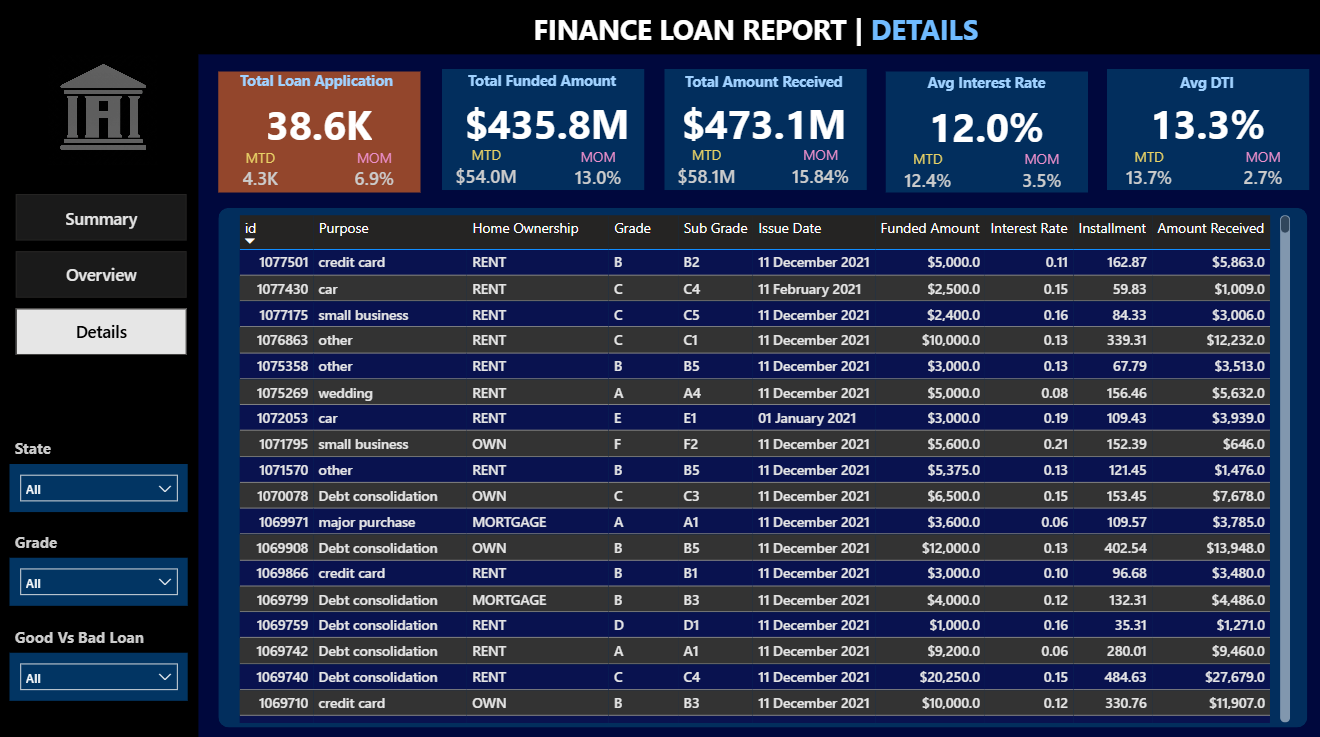

This screenshot's page, from the dashboard's own definition file:
{"tool":"powerbi","page":{"name":"Details ","canvas":[1280,720],"ordinal":2},"visuals":[{"type":"shape","box":[0,0,1280.3,58.3],"z":0},{"type":"shape","box":[0,58.3,194.6,662],"z":1000},{"type":"textbox","box":[194.6,10.6,1076.4,47.7],"z":2000},{"type":"shape","box":[644.6,72.2,195.5,117.1],"z":2000,"group":"g4"},{"type":"shape","box":[429.8,73.5,195.5,117.1],"z":2000,"group":"g3"},{"type":"shape","box":[1071.3,73.5,195.5,117.1],"z":2000,"group":"g6"},{"type":"shape","box":[213.8,74.8,195.5,117.1],"z":2000,"group":"g2"},{"type":"shape","box":[858.6,74.8,195.5,117.1],"z":2000,"group":"g5"},{"type":"shape","box":[213.2,206.5,1051.2,501.8],"z":3000},{"type":"group","id":"g1","title":"Group 2","box":[205.2,69.3,1068.4,139],"z":4000},{"type":"cardVisual","fields":{"Data":["financial_loan.Avg DTI"]},"box":[1072.8,86.1,192.5,74.2],"z":4000,"group":"g6"},{"type":"cardVisual","fields":{"Data":["financial_loan.Total Amount Received"]},"box":[640.7,86.5,199.1,72.9],"z":4000,"group":"g4"},{"type":"cardVisual","fields":{"Data":["financial_loan.Total Loan Application"]},"box":[215.3,87.5,192.5,74.2],"z":4000,"group":"g2"},{"type":"cardVisual","fields":{"Data":["financial_loan.AVG. Intrest Rate"]},"box":[860.1,87.5,192.5,74.2],"z":4000,"group":"g5"},{"type":"cardVisual","fields":{"Data":["financial_loan.Total funded Amount"]},"box":[431.9,87.7,200.4,72.9],"z":4000,"group":"g3"},{"type":"cardVisual","fields":{"Data":["financial_loan.MTD Funded Amount"]},"box":[419.3,126.2,107.5,82.1],"z":5000,"group":"g3"},{"type":"cardVisual","fields":{"Data":["financial_loan.MTD Total Amount Received"]},"box":[636,130.9,98.1,72.2],"z":5000,"group":"g4"},{"type":"cardVisual","fields":{"Data":["financial_loan.MTD Avd DTI"]},"box":[1062.7,132.2,98.1,72.2],"z":5000,"group":"g6"},{"type":"cardVisual","fields":{"Data":["financial_loan.MTD Loan Application"]},"box":[205.2,133.5,98.1,72.2],"z":5000,"group":"g2"},{"type":"cardVisual","fields":{"Data":["financial_loan.MTD AVG.Intrest Rate"]},"box":[850,133.6,98.1,72.2],"z":5000,"group":"g5"},{"type":"slicer","fields":{"Values":["financial_loan.address_state"]},"box":[11.9,454.1,172.1,46.3],"z":5000},{"type":"cardVisual","fields":{"Data":["financial_loan.MOM Total Amount Received"]},"box":[745.1,130.9,101.8,72.2],"z":6000,"group":"g4"},{"type":"cardVisual","fields":{"Data":["financial_loan.MOM Funded Amount"]},"box":[530.3,132.2,101.8,72.2],"z":6000,"group":"g3"},{"type":"cardVisual","fields":{"Data":["financial_loan.MOM Avg DTI"]},"box":[1171.8,132.2,101.8,72.2],"z":6000,"group":"g6"},{"type":"cardVisual","fields":{"Data":["financial_loan.MOM Loan Application"]},"box":[314.3,133.5,101.8,72.2],"z":6000,"group":"g2"},{"type":"cardVisual","fields":{"Data":["financial_loan.MOM Avg. Intrest Rate"]},"box":[959.1,133.6,101.8,72.2],"z":6000,"group":"g5"},{"type":"textbox","box":[11.9,423.7,58.3,30.5],"z":6000},{"type":"slicer","fields":{"Values":["financial_loan.grade"]},"box":[11.9,544.1,172.1,46.3],"z":7000},{"type":"group","id":"g2","title":"Group 1","box":[205.2,69.3,210.9,136.4],"z":8000,"group":"g1"},{"type":"textbox","box":[208.9,69.3,199.1,42.4],"z":8000,"group":"g2"},{"type":"textbox","box":[427.7,69.7,197.8,39.7],"z":8000,"group":"g3"},{"type":"textbox","box":[641.5,70.2,196.5,38.4],"z":8000,"group":"g4"},{"type":"textbox","box":[856.2,71.2,199.1,39.7],"z":8000,"group":"g5"},{"type":"textbox","box":[1068.7,72.2,197.8,31.8],"z":8000,"group":"g6"},{"type":"textbox","box":[11.9,513.7,74.1,30.5],"z":8000},{"type":"group","id":"g3","title":"Group 1","box":[419.3,69.7,213.1,138.6],"z":9000,"group":"g1"},{"type":"slicer","fields":{"Values":["financial_loan.Good Vs Bad Loan"]},"box":[11.9,635.5,172.1,46.3],"z":9000},{"type":"group","id":"g4","title":"Group 1","box":[636,70.2,210.9,132.9],"z":10000,"group":"g1"},{"type":"textbox","box":[11.9,605,145.6,30.5],"z":10000},{"type":"group","id":"g5","title":"Group 1","box":[850,71.2,210.9,134.6],"z":11000,"group":"g1"},{"type":"tableEx","fields":{"Values":["financial_loan.id","financial_loan.purpose","financial_loan.home_ownership","financial_loan.grade","financial_loan.sub_grade","financial_loan.issue_date","financial_loan.Total funded Amount","Sum(financial_loan.int_rate)","Sum(financial_loan.installment)","financial_loan.Total Amount Received"]},"box":[227.7,209.2,1024.7,499.1],"z":11000},{"type":"image","box":[49,59.6,105.9,105.9],"z":12000},{"type":"group","id":"g6","title":"Group 1","box":[1062.7,72.2,210.9,132.2],"z":12000,"group":"g1"},{"type":"pageNavigator","box":[18.5,193.3,165.5,157.6],"z":13000}]}

Visuals, with their boxes in screenshot pixels (x1, y1, x2, y2), scaled from the page's 1280x720 canvas onto the 1320x737 screenshot:
shape: 0:0:1319:60
shape: 0:60:201:736
textbox: 201:11:1311:60
shape: 665:74:866:194
shape: 443:75:645:195
shape: 1105:75:1306:195
shape: 220:77:422:196
shape: 885:77:1087:196
shape: 220:211:1304:725
"Group 2" group: 212:71:1313:213
cardVisual - financial_loan.Avg DTI: 1106:88:1305:164
cardVisual - financial_loan.Total Amount Received: 661:89:866:163
cardVisual - financial_loan.Total Loan Application: 222:90:421:166
cardVisual - financial_loan.AVG. Intrest Rate: 887:90:1085:166
cardVisual - financial_loan.Total funded Amount: 445:90:652:164
cardVisual - financial_loan.MTD Funded Amount: 432:129:543:213
cardVisual - financial_loan.MTD Total Amount Received: 656:134:757:208
cardVisual - financial_loan.MTD Avd DTI: 1096:135:1197:209
cardVisual - financial_loan.MTD Loan Application: 212:137:313:211
cardVisual - financial_loan.MTD AVG.Intrest Rate: 877:137:978:211
slicer - financial_loan.address_state: 12:465:190:512
cardVisual - financial_loan.MOM Total Amount Received: 768:134:873:208
cardVisual - financial_loan.MOM Funded Amount: 547:135:652:209
cardVisual - financial_loan.MOM Avg DTI: 1208:135:1313:209
cardVisual - financial_loan.MOM Loan Application: 324:137:429:211
cardVisual - financial_loan.MOM Avg. Intrest Rate: 989:137:1094:211
textbox: 12:434:72:465
slicer - financial_loan.grade: 12:557:190:604
"Group 1" group: 212:71:429:211
textbox: 215:71:421:114
textbox: 441:71:645:112
textbox: 662:72:864:111
textbox: 883:73:1088:114
textbox: 1102:74:1306:106
textbox: 12:526:89:557
"Group 1" group: 432:71:652:213
slicer - financial_loan.Good Vs Bad Loan: 12:651:190:698
"Group 1" group: 656:72:873:208
textbox: 12:619:162:651
"Group 1" group: 877:73:1094:211
tableEx - financial_loan.id x financial_loan.purpose: 235:214:1292:725
image: 51:61:160:169
"Group 1" group: 1096:74:1313:209
pageNavigator: 19:198:190:359
